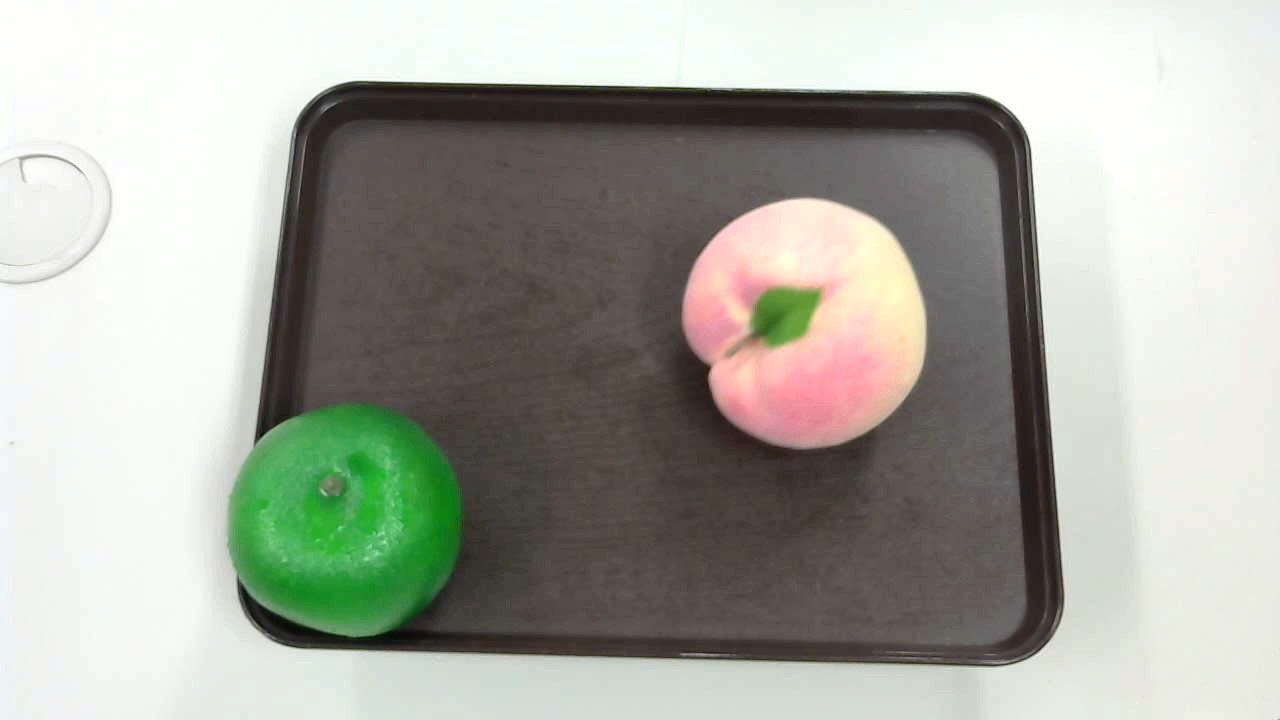green orange: (223, 398, 461, 644)
peach: (673, 190, 926, 448)
